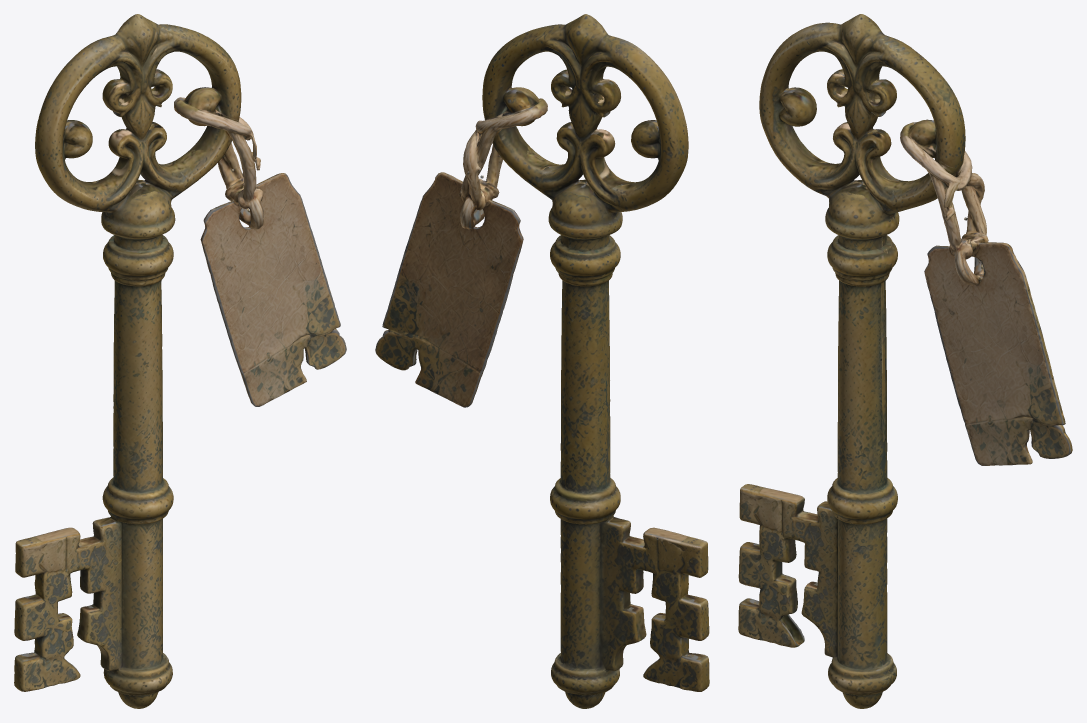
File: RoomKey.fbx
3 renders of one model, left to right at view 1: azimuth 30°, elevation 25°; view 2: azimuth 150°, elevation 25°; view 3: azimuth 330°, elevation 25°, orthographic.
Visible parts, largest first — view 1: texture_mapping; view 2: texture_mapping; view 3: texture_mapping.
Boxes of the visible parts, x1,y1,x2,y2 form: texture_mapping: (14,14,346,708); texture_mapping: (375,14,709,708); texture_mapping: (738,14,1072,708).
Size of the model in its own units: 0.4988 by 0.1035 by 1.
Materials: 1 (1 with a texture image).
